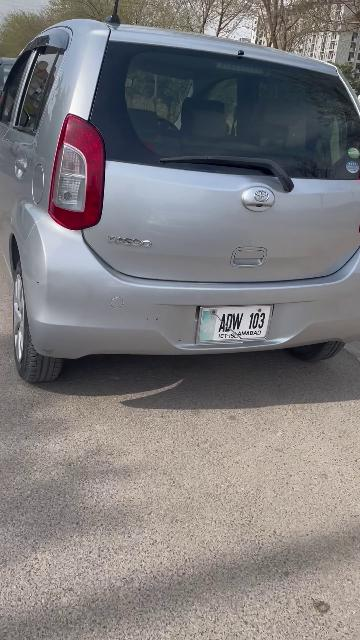plate: (197, 305, 274, 343)
